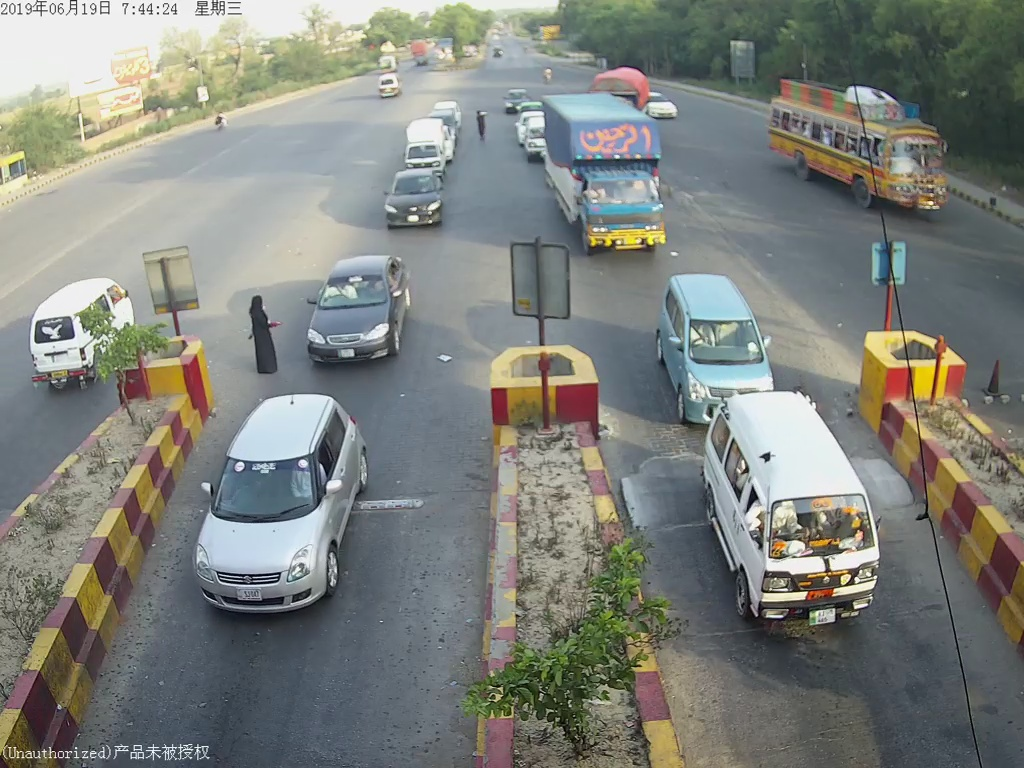Cat-1: (711, 397, 887, 642), (197, 393, 373, 607), (658, 273, 775, 388), (309, 256, 412, 366), (385, 170, 453, 232)
Cat-2: (546, 102, 670, 254)
